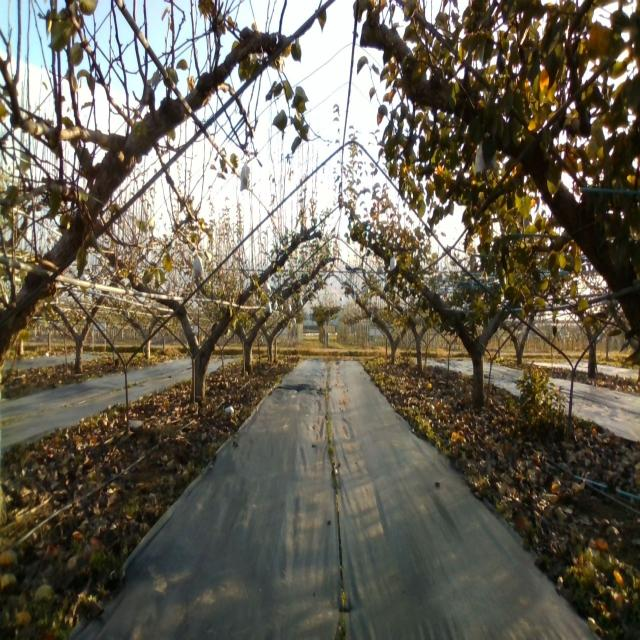pearbags: (191, 250, 204, 278), (240, 159, 250, 192)
